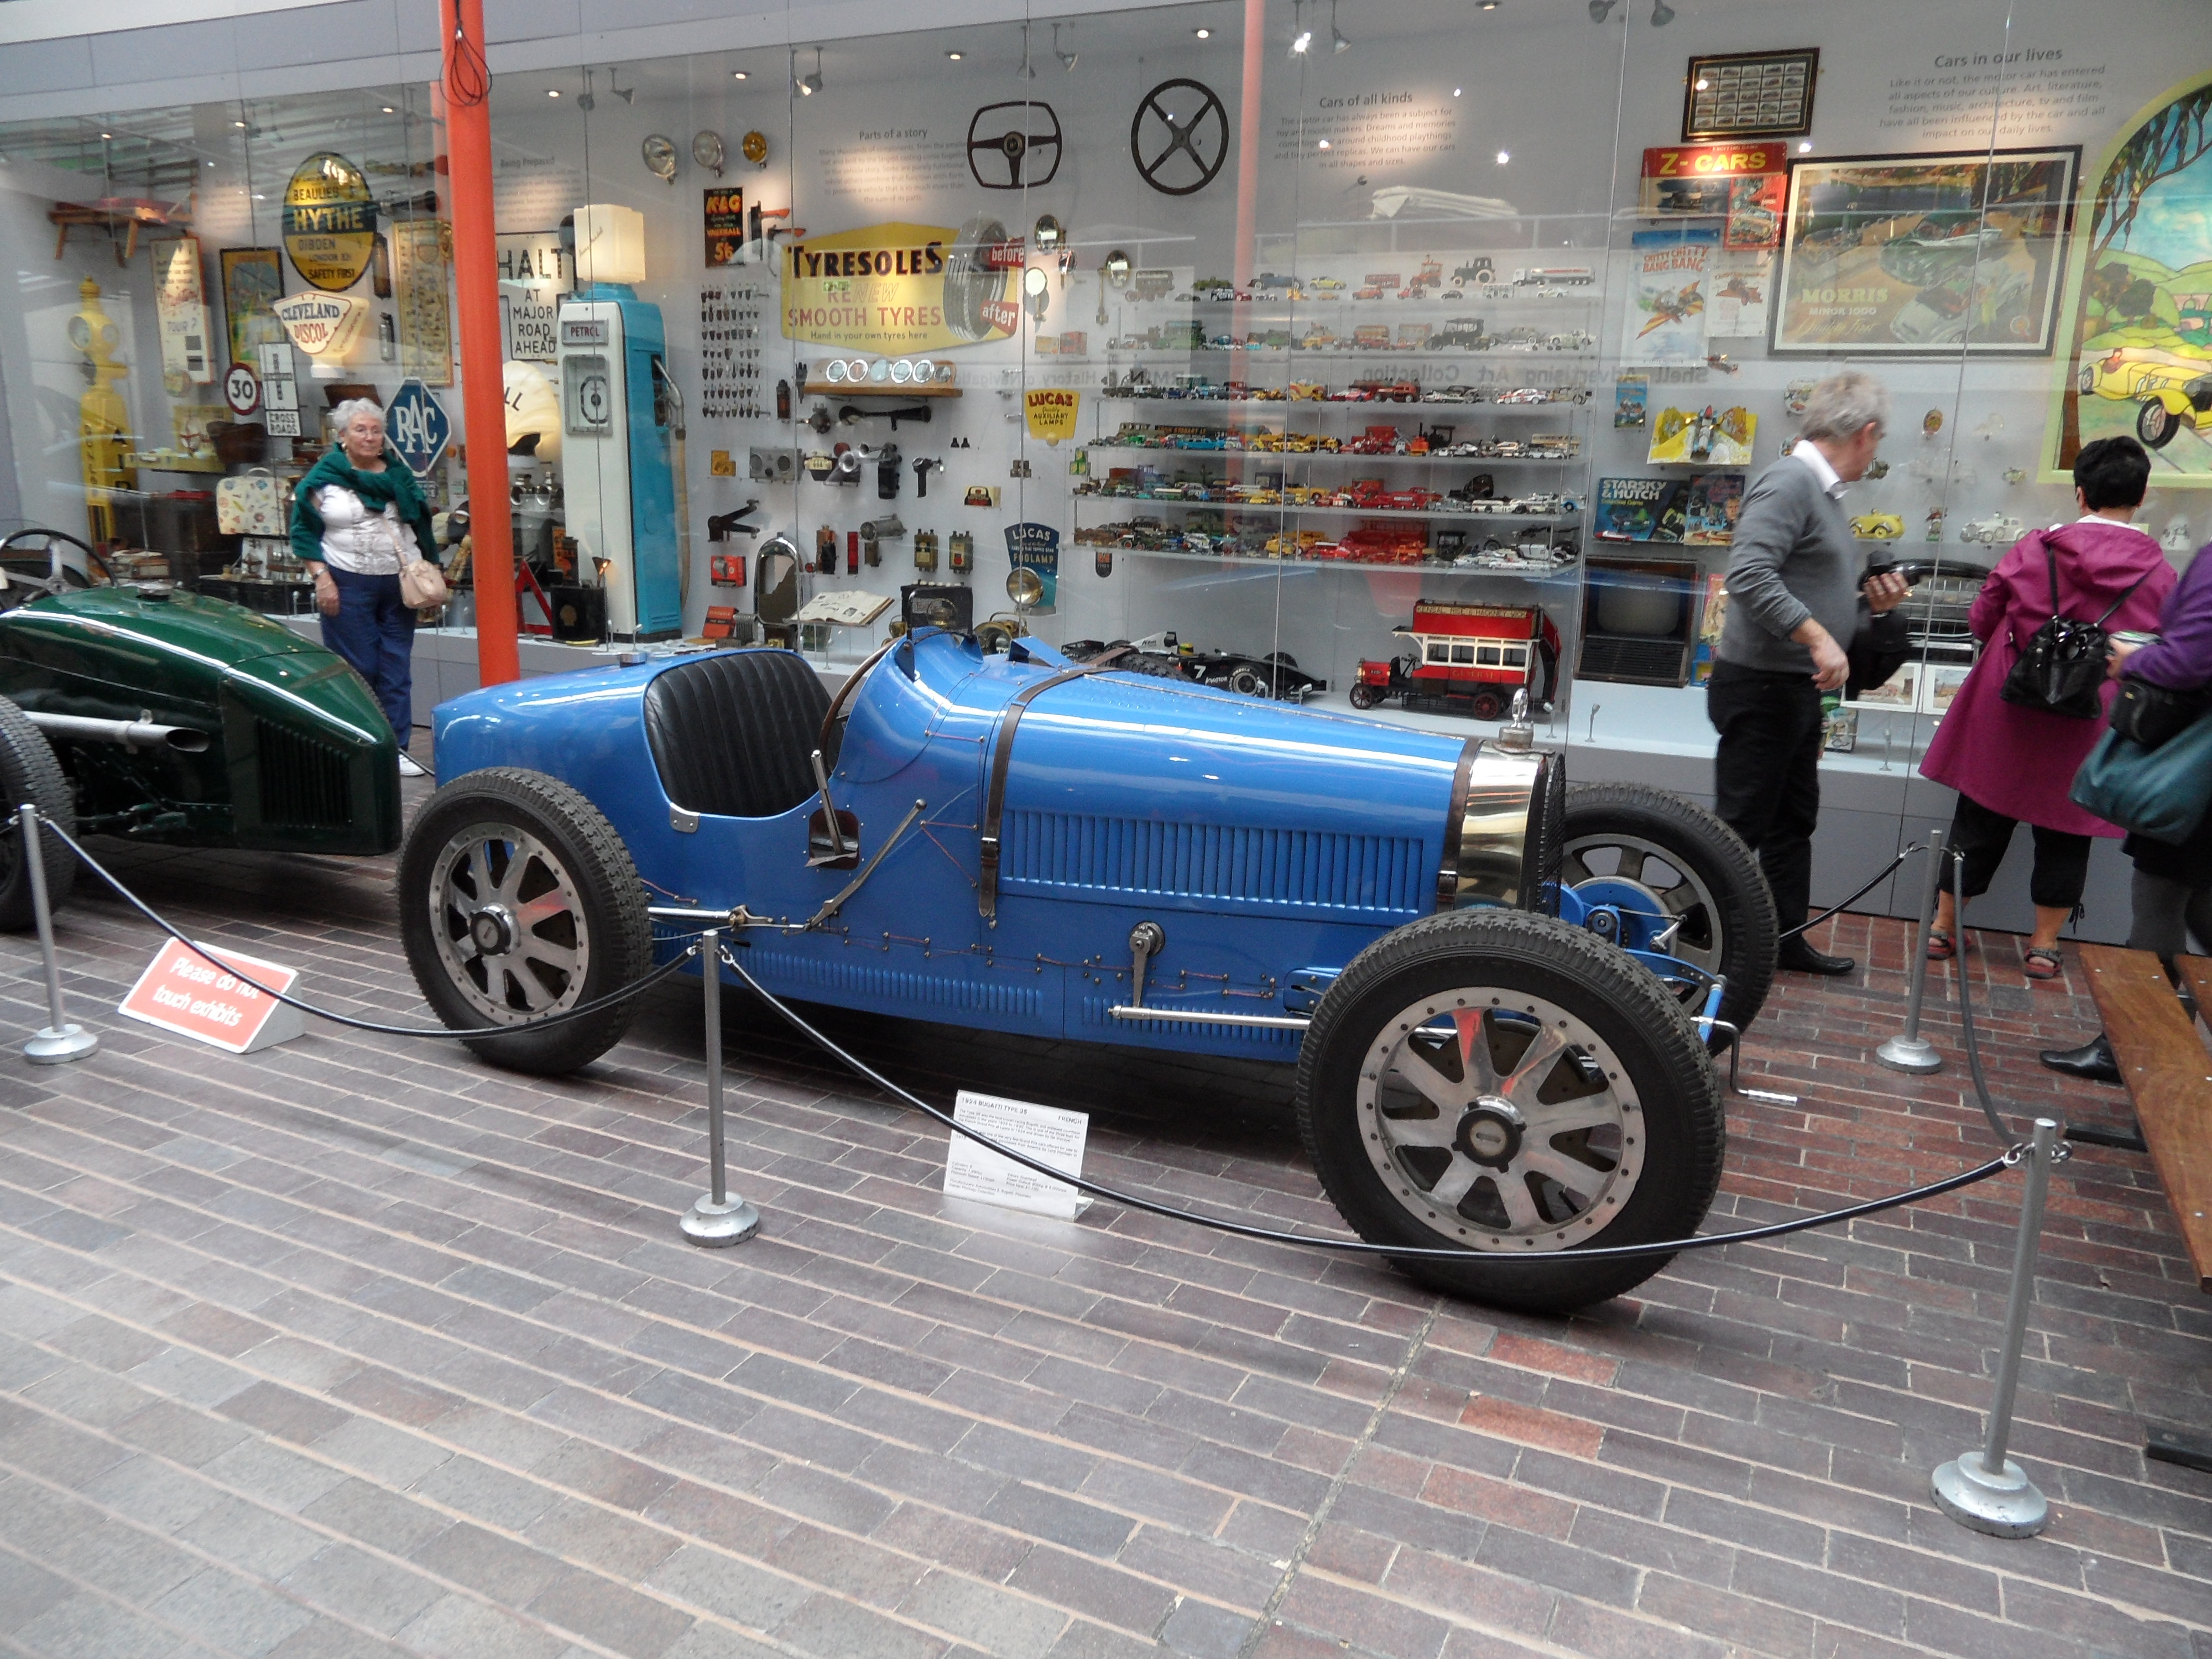Car: (395, 575, 1773, 1303), (0, 525, 409, 951), (1073, 528, 1576, 570), (1170, 251, 1566, 300), (1109, 317, 1590, 352), (1089, 429, 1573, 462), (1076, 479, 1581, 511), (1101, 373, 1573, 404), (2080, 354, 2210, 451), (1890, 263, 2029, 342), (1879, 202, 2001, 286), (1179, 643, 1322, 702), (1656, 490, 1724, 542), (1799, 225, 1860, 263), (1113, 631, 1190, 659), (1844, 511, 1900, 538), (1965, 518, 2020, 542), (1608, 502, 1651, 532)
